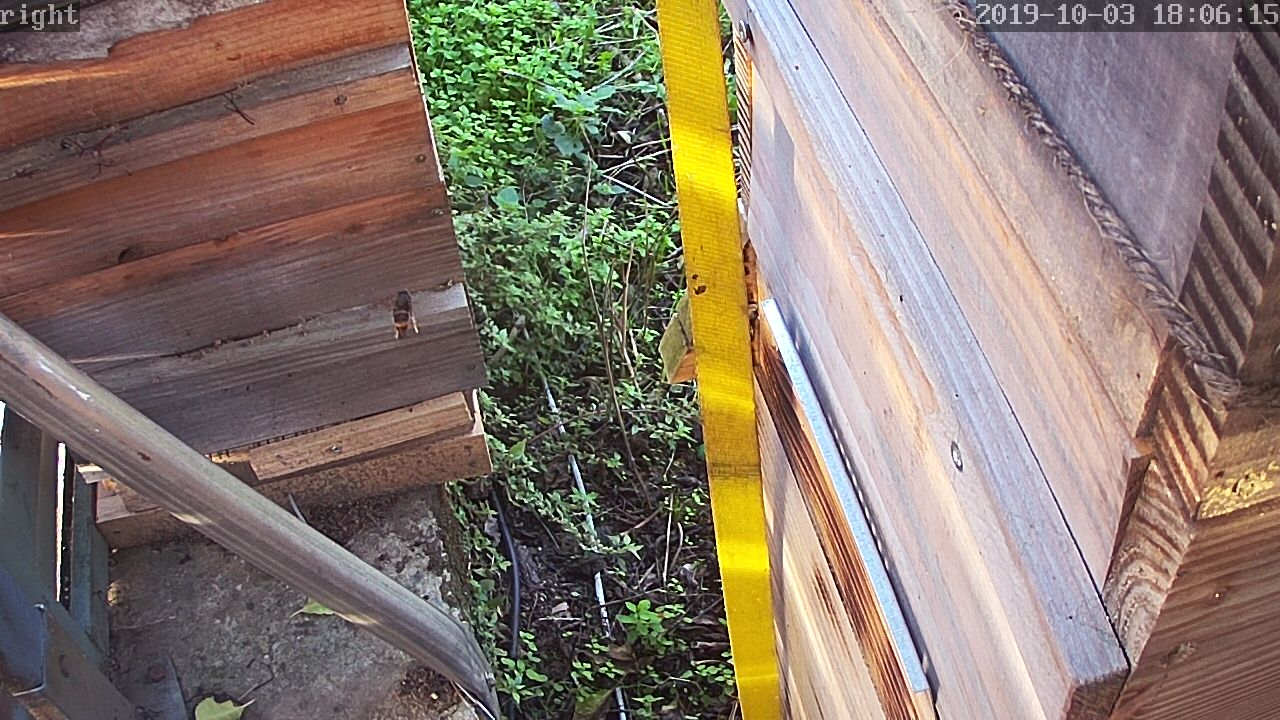hornet: (386, 285, 422, 339)
